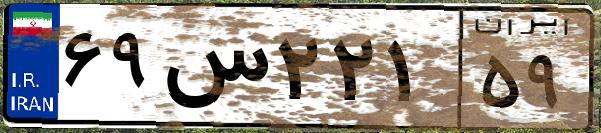1: (385, 28, 445, 110)
2: (270, 28, 330, 110), (330, 28, 385, 110)
5: (475, 38, 525, 113)
6: (57, 26, 110, 100)
9: (525, 38, 570, 115), (110, 28, 158, 98)
س: (158, 20, 270, 120)
